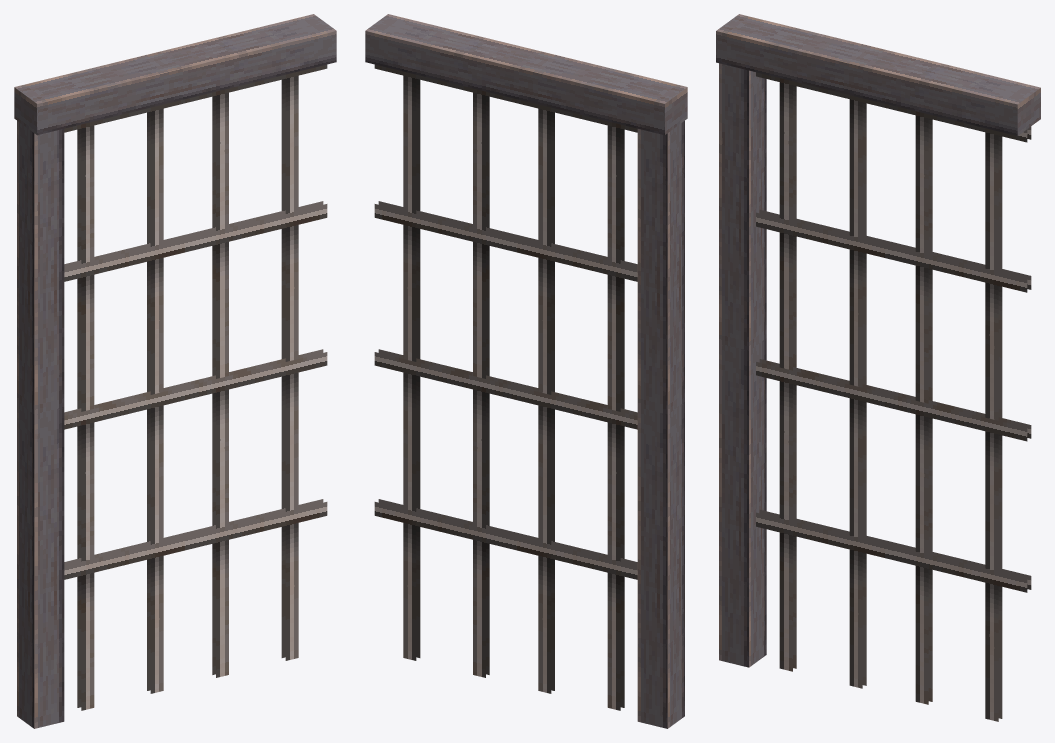
Rendered from Iron Fence.fbx.
3 views of the same model, side by side, from view 1: azimuth 30°, elevation 25°; view 2: azimuth 150°, elevation 25°; view 3: azimuth 330°, elevation 25° (orthographic).
Visible parts, largest first — view 1: IronFence; view 2: IronFence; view 3: IronFence.
Boxes of the visible parts, x1,y1,x2,y2 form: IronFence: [14, 14, 336, 728]; IronFence: [365, 14, 687, 728]; IronFence: [716, 14, 1040, 721].
Size of the model in its own units: 1 by 2 by 0.1328.
